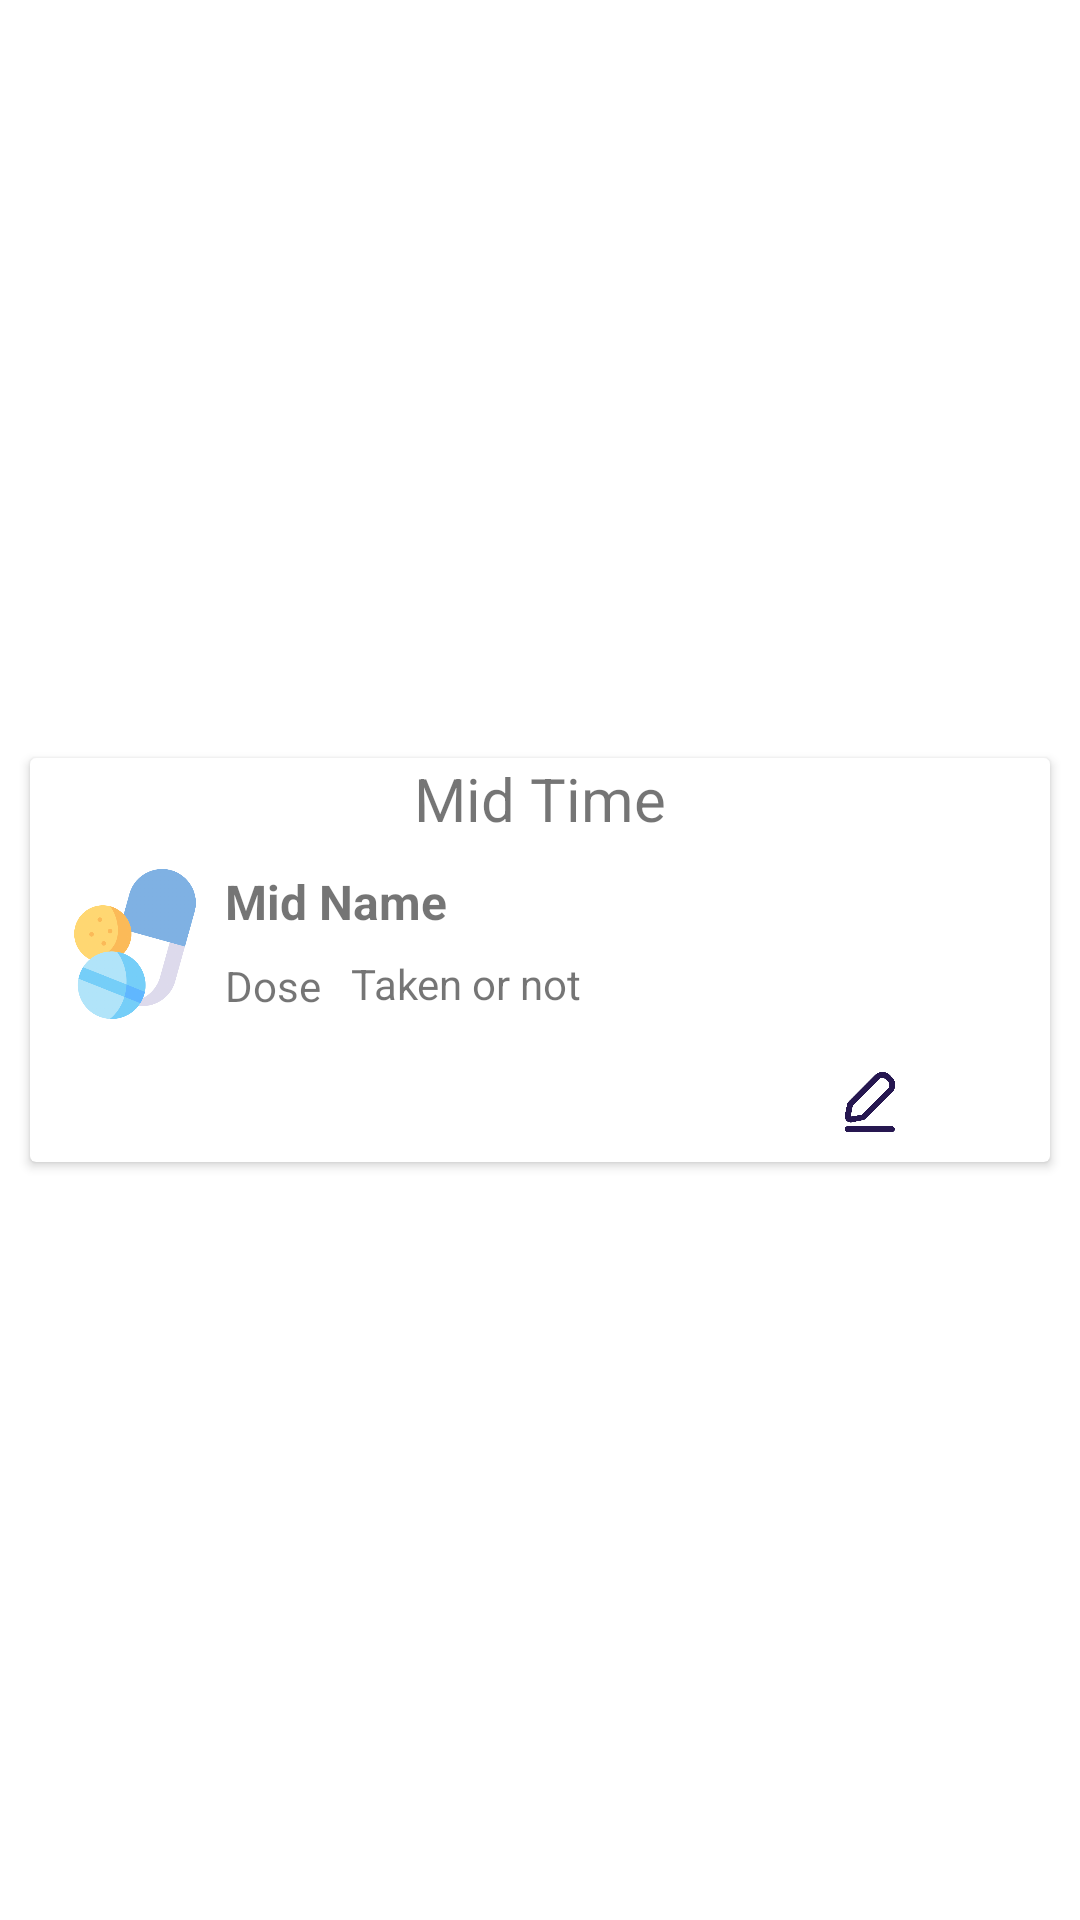

Icons on this 1080 × 1920 Android screen, each with its box as (x1=x1, y1=y1, x2=x2, y2=y2):
drugs: (x1=74, y1=869, x2=196, y2=1019)
write: (x1=845, y1=1072, x2=895, y2=1132)
